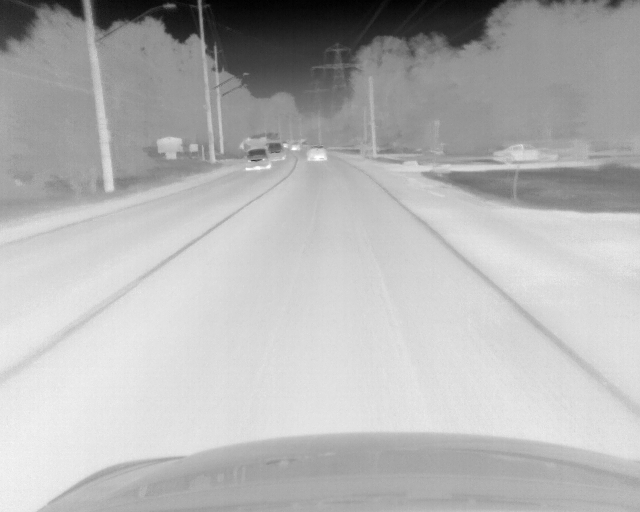car: (492, 143, 557, 165), (245, 148, 270, 170), (305, 145, 327, 162), (267, 143, 285, 161), (289, 141, 299, 152)
